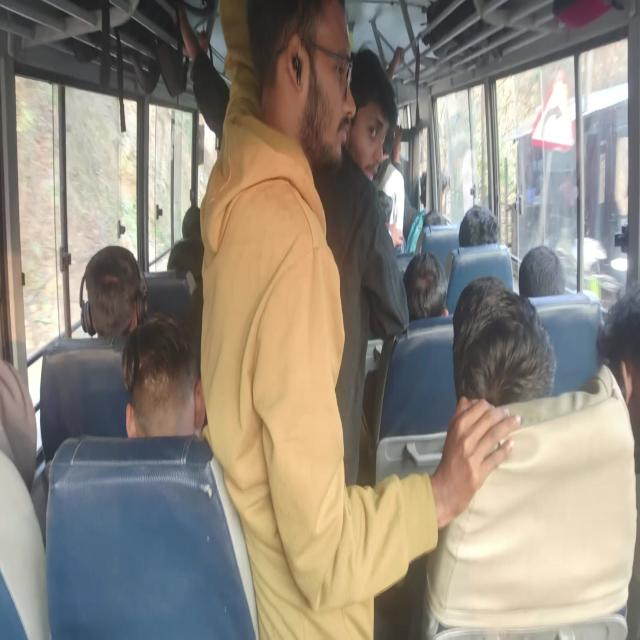person: (236, 5, 364, 222), (329, 15, 407, 203), (452, 291, 547, 440), (126, 307, 204, 466), (0, 372, 66, 530), (602, 273, 640, 522), (62, 240, 148, 347), (406, 249, 454, 327), (526, 258, 581, 324), (463, 191, 507, 267), (164, 233, 197, 296), (420, 202, 456, 253), (424, 162, 448, 208), (179, 206, 202, 245)
